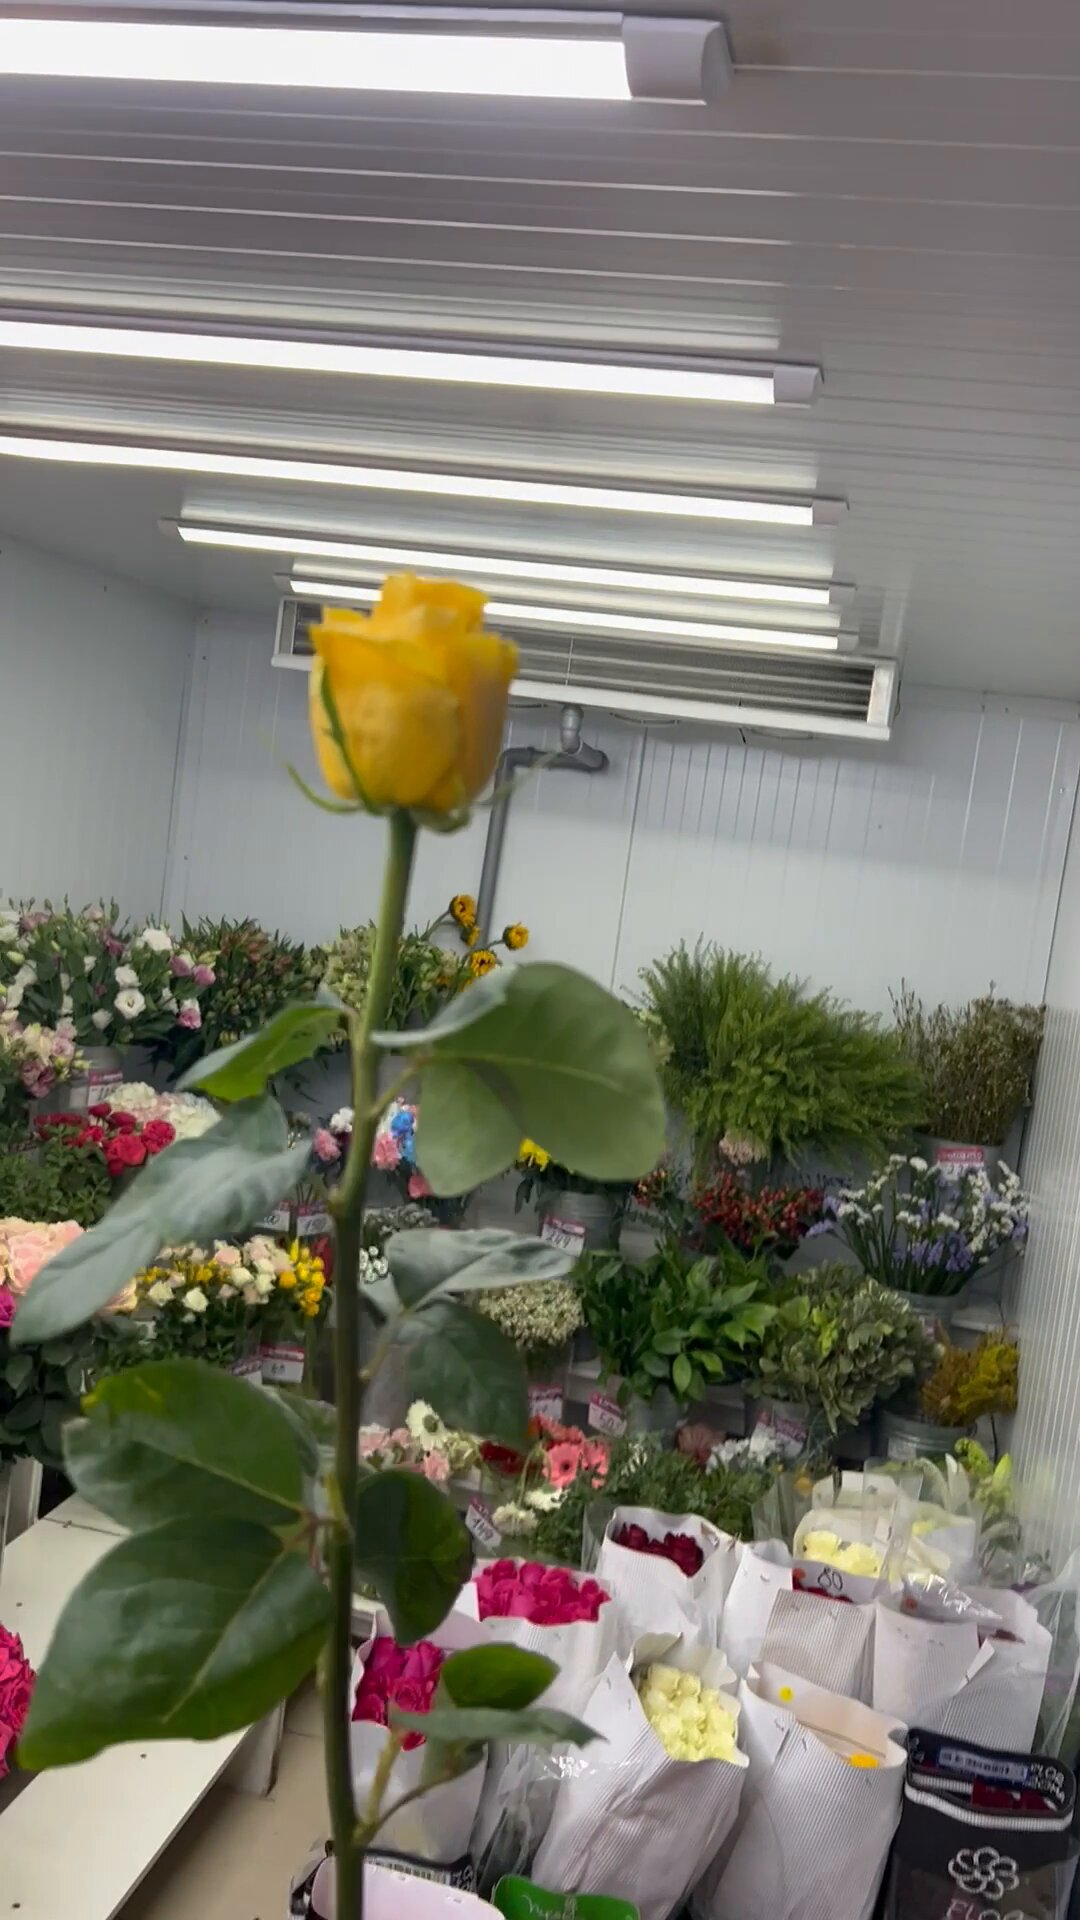rose: (62, 554, 669, 1920)
